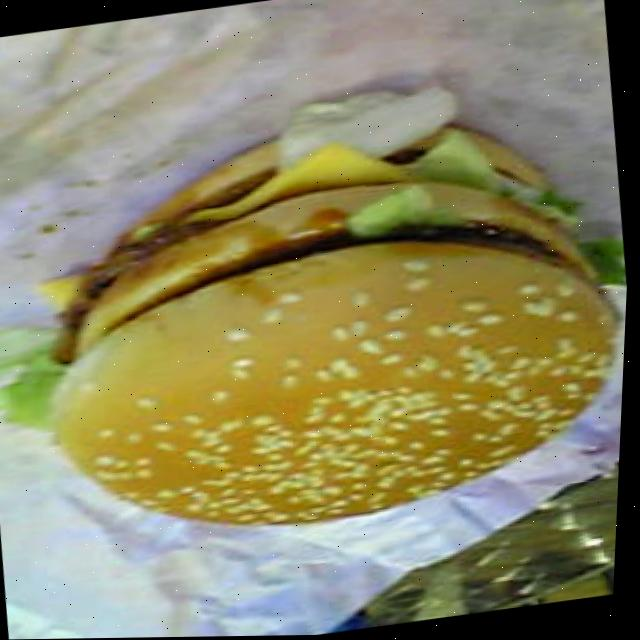汉堡快餐: (7, 79, 637, 575)
